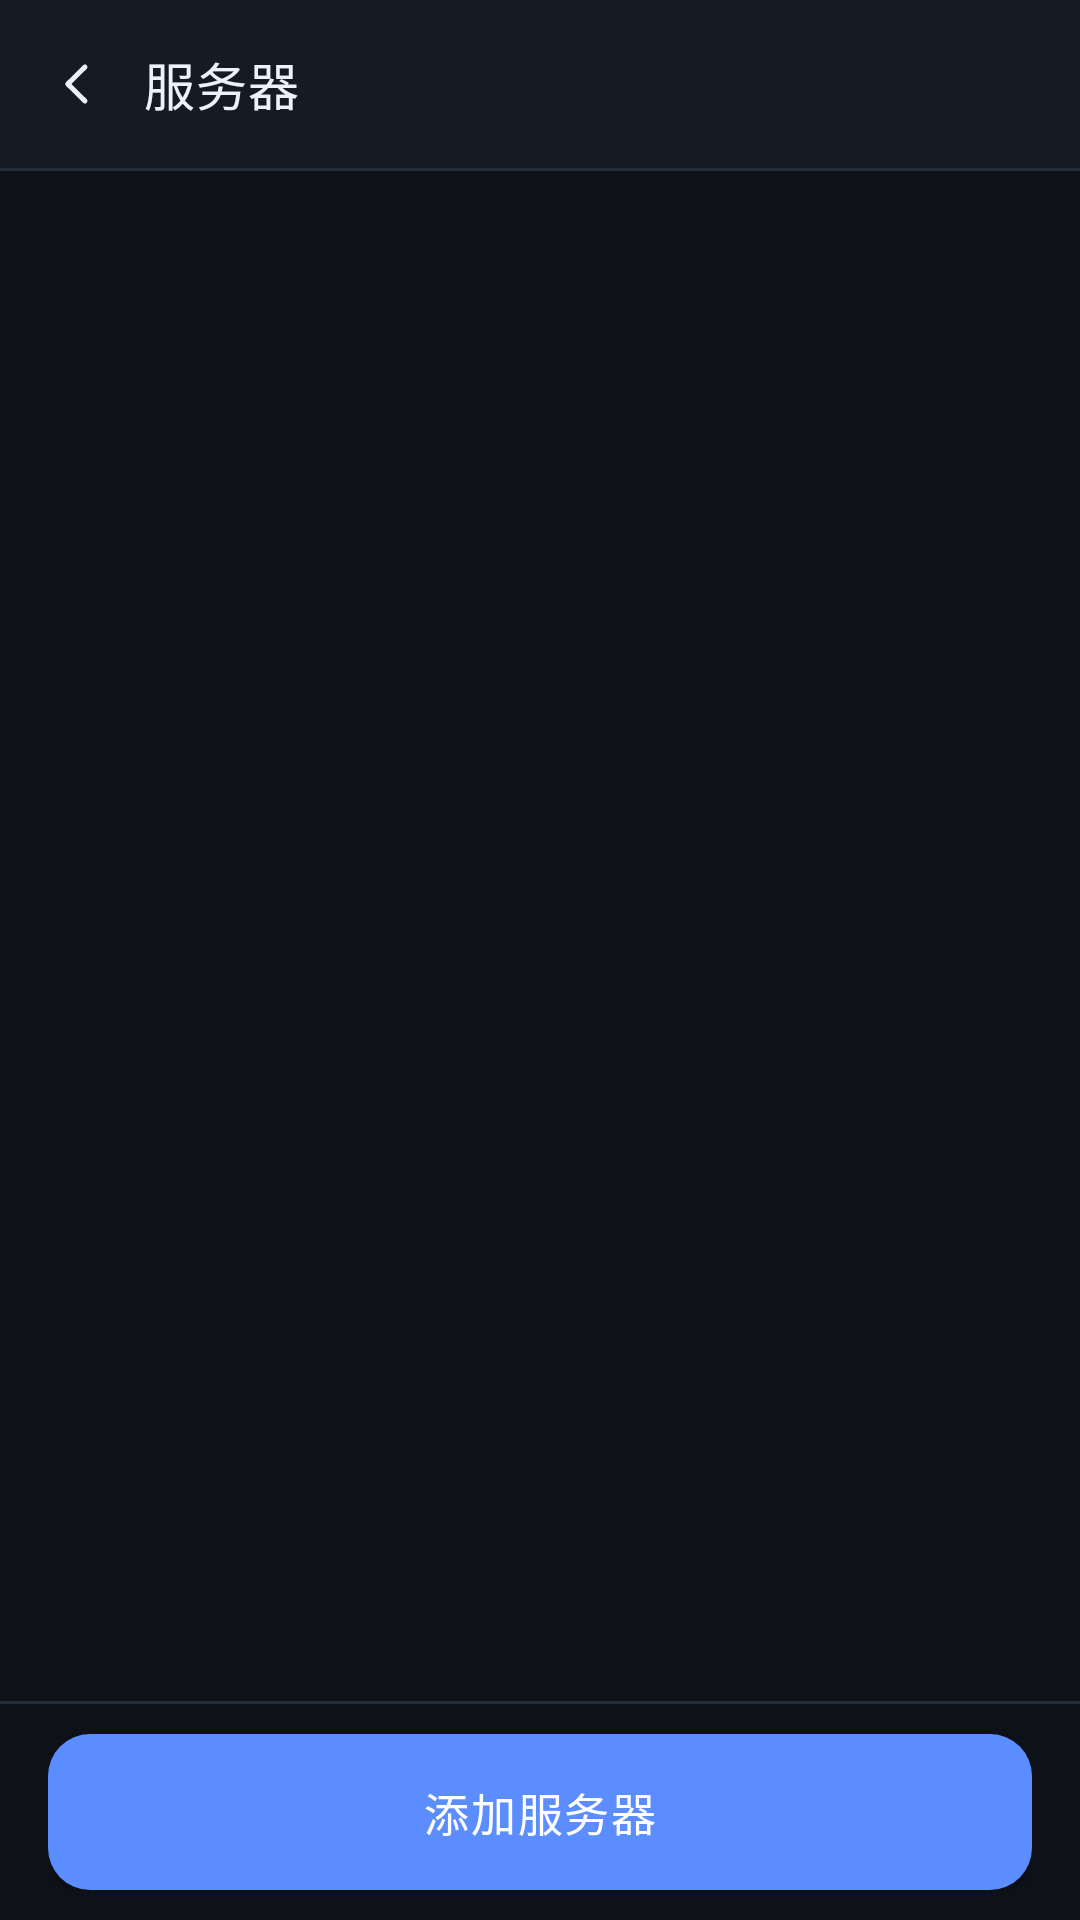

Named icons in this screenshot (1080×1920) and their bounding boxes, (x1, y1, x2, y2):
返回: (65, 64, 88, 104)
